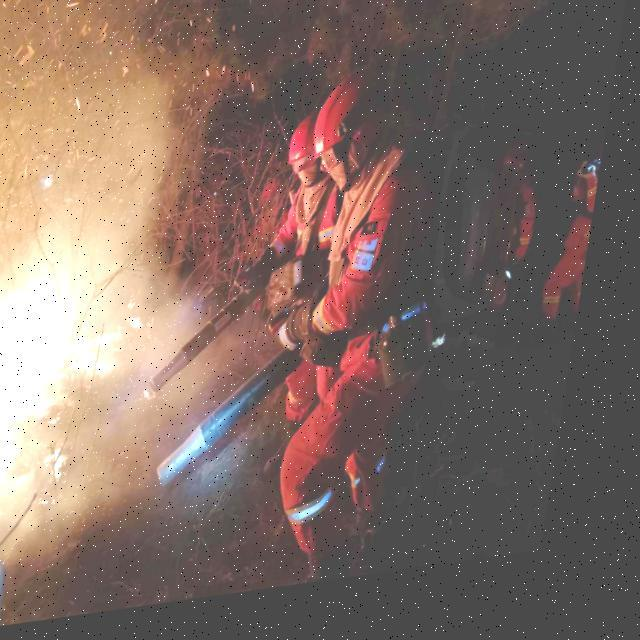Fire: (0, 259, 168, 541)
